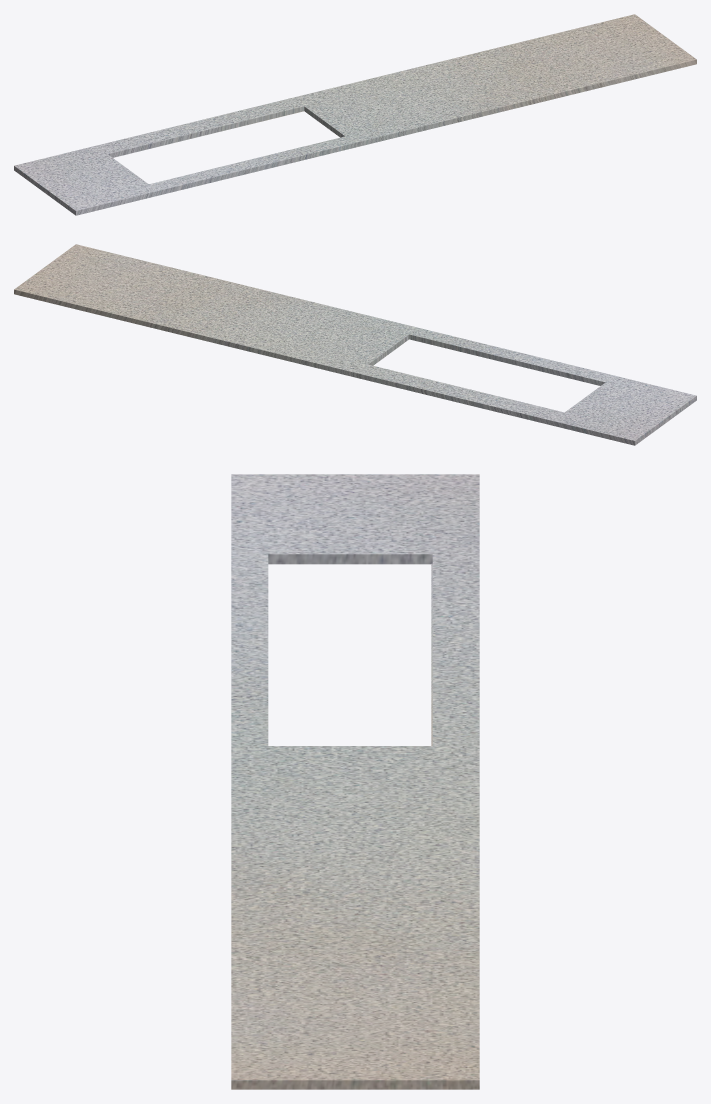
The model's file is Bench Top.fbx.
3 renders of one model, top to bottom at view 1: azimuth 30°, elevation 25°; view 2: azimuth 150°, elevation 25°; view 3: azimuth 270°, elevation 25°, orthographic. The views are drawn at different scales.
Visible parts, largest first — view 1: pCube1; view 2: pCube1; view 3: pCube1.
Part boxes in pixels (x1,y1,x2,y2): pCube1: [14, 14, 696, 215]; pCube1: [14, 244, 696, 445]; pCube1: [231, 474, 479, 1089].
Bounding box in the file's own units: 5.01 × 0.0378 × 0.8667.
